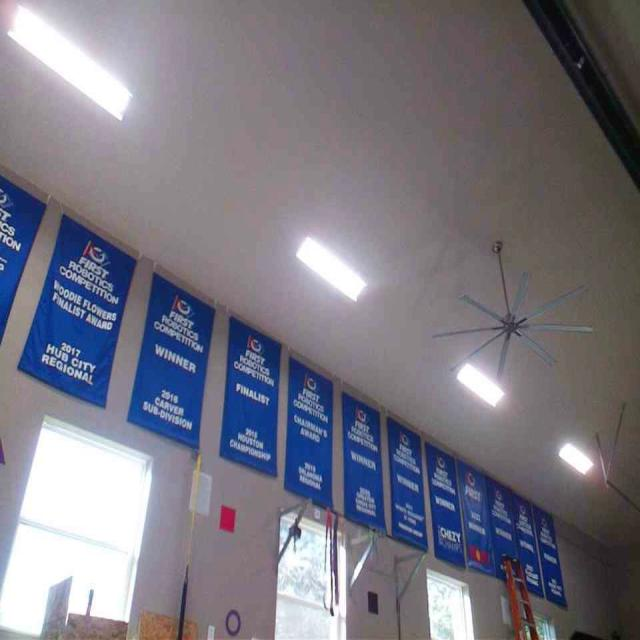ring_purple: (224, 610, 241, 634)
square_black: (366, 588, 380, 612)
square_red: (218, 504, 237, 532)
